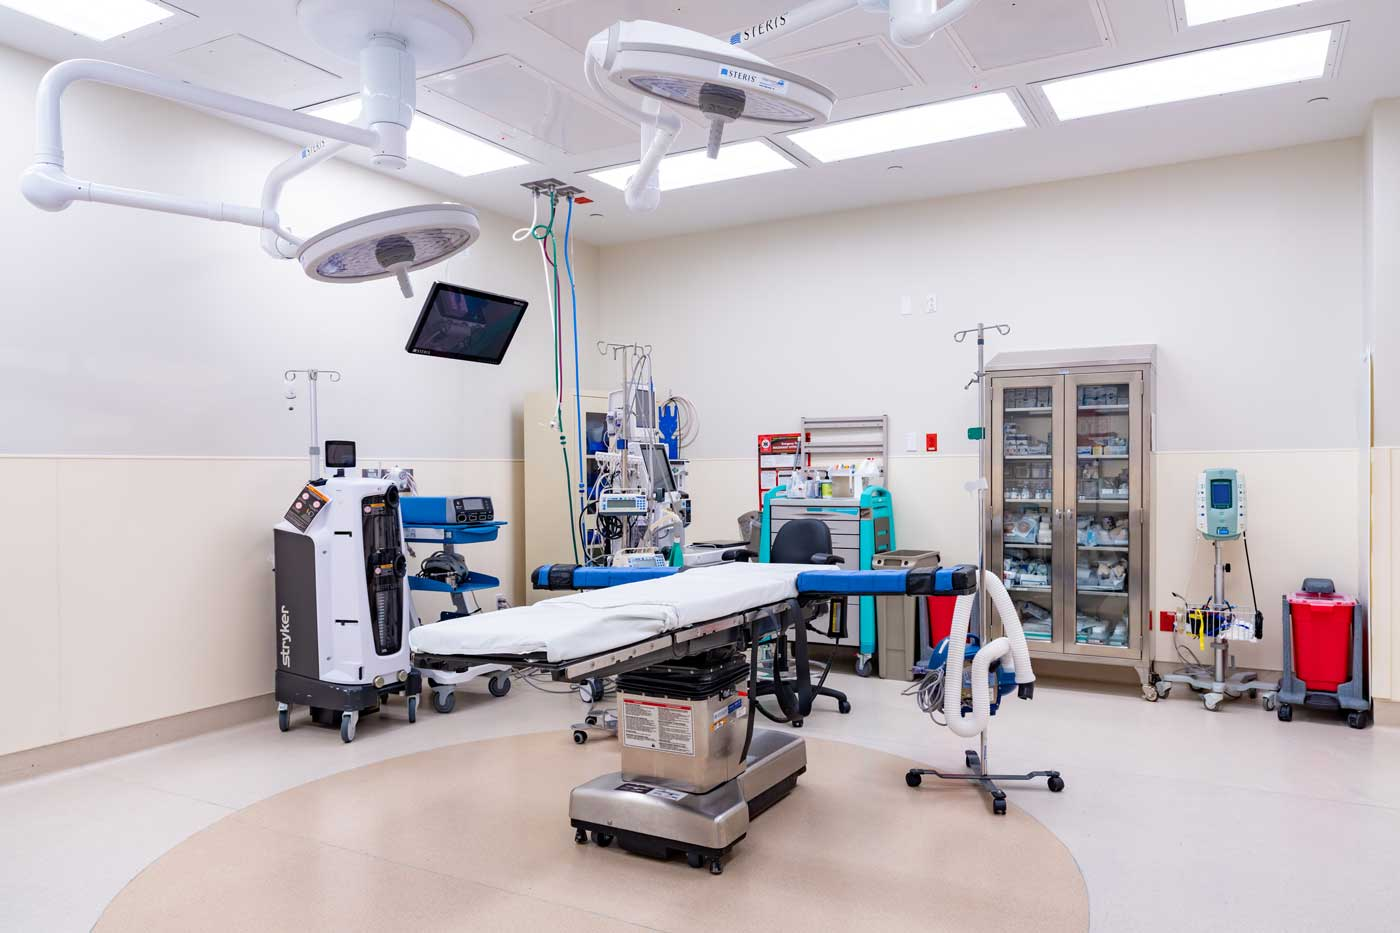bedside_monitor: (404, 280, 529, 367), (638, 442, 687, 496)
cabinet: (982, 349, 1157, 692), (518, 388, 613, 600)
electrosurgical_unit: (405, 491, 500, 529)
handle: (1065, 505, 1074, 525), (1053, 506, 1062, 526)
iv_pole: (954, 324, 1006, 775), (599, 337, 673, 496), (282, 365, 347, 485)
medical_drawer: (757, 482, 879, 670)
operating_bed: (407, 559, 976, 872)
surgical_light: (590, 45, 843, 150), (280, 199, 480, 289)
syringe_pump: (592, 489, 647, 521)
waste_bin: (1283, 578, 1354, 729), (881, 530, 945, 682)
